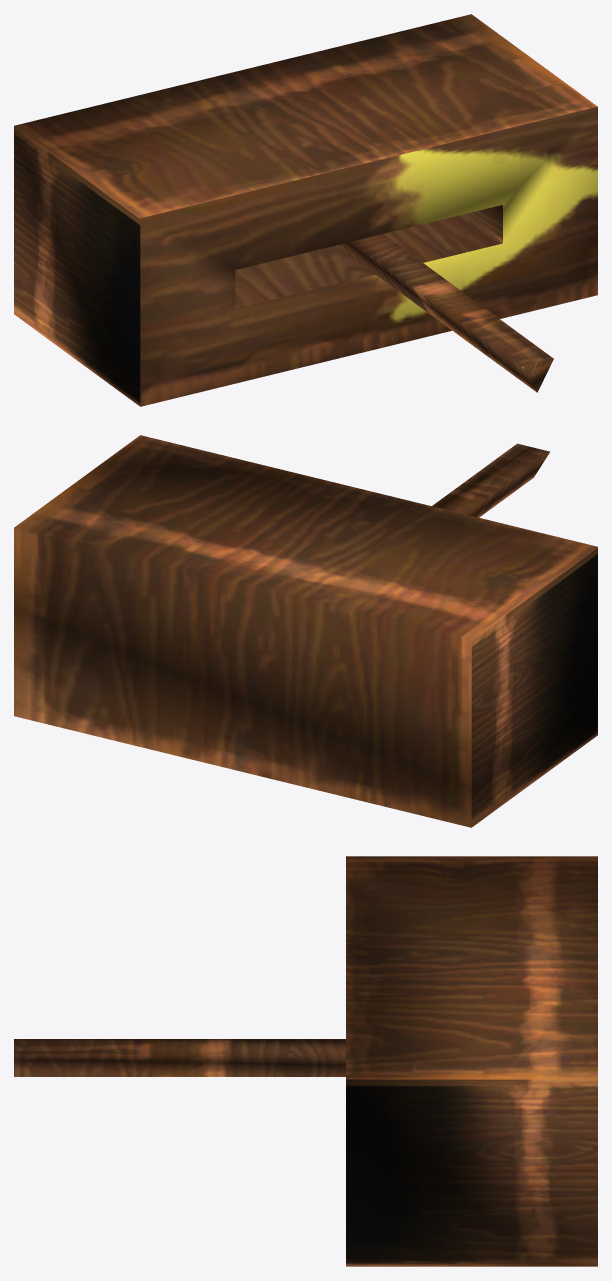
The model's file is INST_SWORDLIGHT_SWITCHA.obj.
3 views of the same model, one above another, from view 1: azimuth 30°, elevation 25°; view 2: azimuth 150°, elevation 25°; view 3: azimuth 270°, elevation 25° (orthographic).
Visible parts, largest first — view 1: tchBoxA_Lod1_01, SwitchA_Lod1_01; view 2: tchBoxA_Lod1_01, SwitchA_Lod1_01; view 3: tchBoxA_Lod1_01, SwitchA_Lod1_01.
Part boxes in pixels (<box>): tchBoxA_Lod1_01: <box>14,14,597,406</box>; SwitchA_Lod1_01: <box>337,234,553,392</box>; tchBoxA_Lod1_01: <box>14,435,597,827</box>; SwitchA_Lod1_01: <box>432,443,549,517</box>; tchBoxA_Lod1_01: <box>346,856,597,1266</box>; SwitchA_Lod1_01: <box>14,1039,345,1076</box>.
Size of the model in its own units: 68.76 by 27.07 by 76.23.
